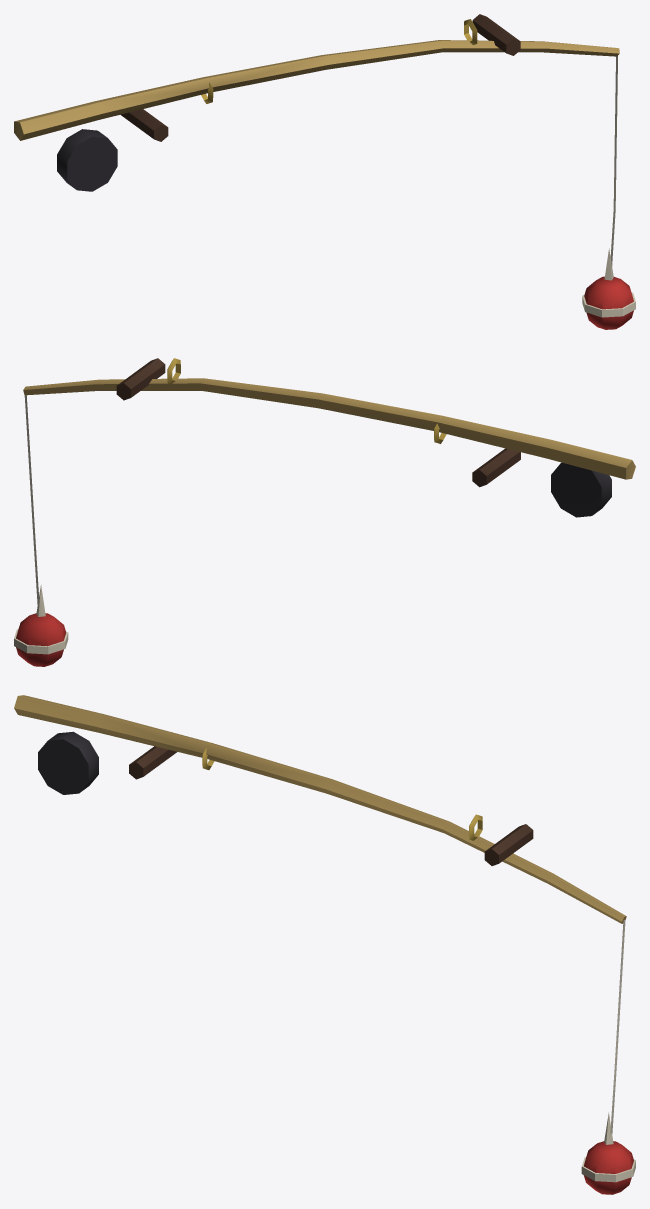
Rendered from rod_bent.glb.
3 views of the same model, one above another, from view 1: azimuth 30°, elevation 25°; view 2: azimuth 150°, elevation 25°; view 3: azimuth 330°, elevation 25° (orthographic).
Parts seen in each view (by area): view 1: rod_bent; view 2: rod_bent; view 3: rod_bent.
Boxes of the visible parts, x1=… form: rod_bent: x1=14, y1=14, x2=635, y2=329; rod_bent: x1=14, y1=358, x2=635, y2=666; rod_bent: x1=14, y1=695, x2=635, y2=1194.
Size of the model in its own units: 1.04 by 0.5661 by 0.111.
